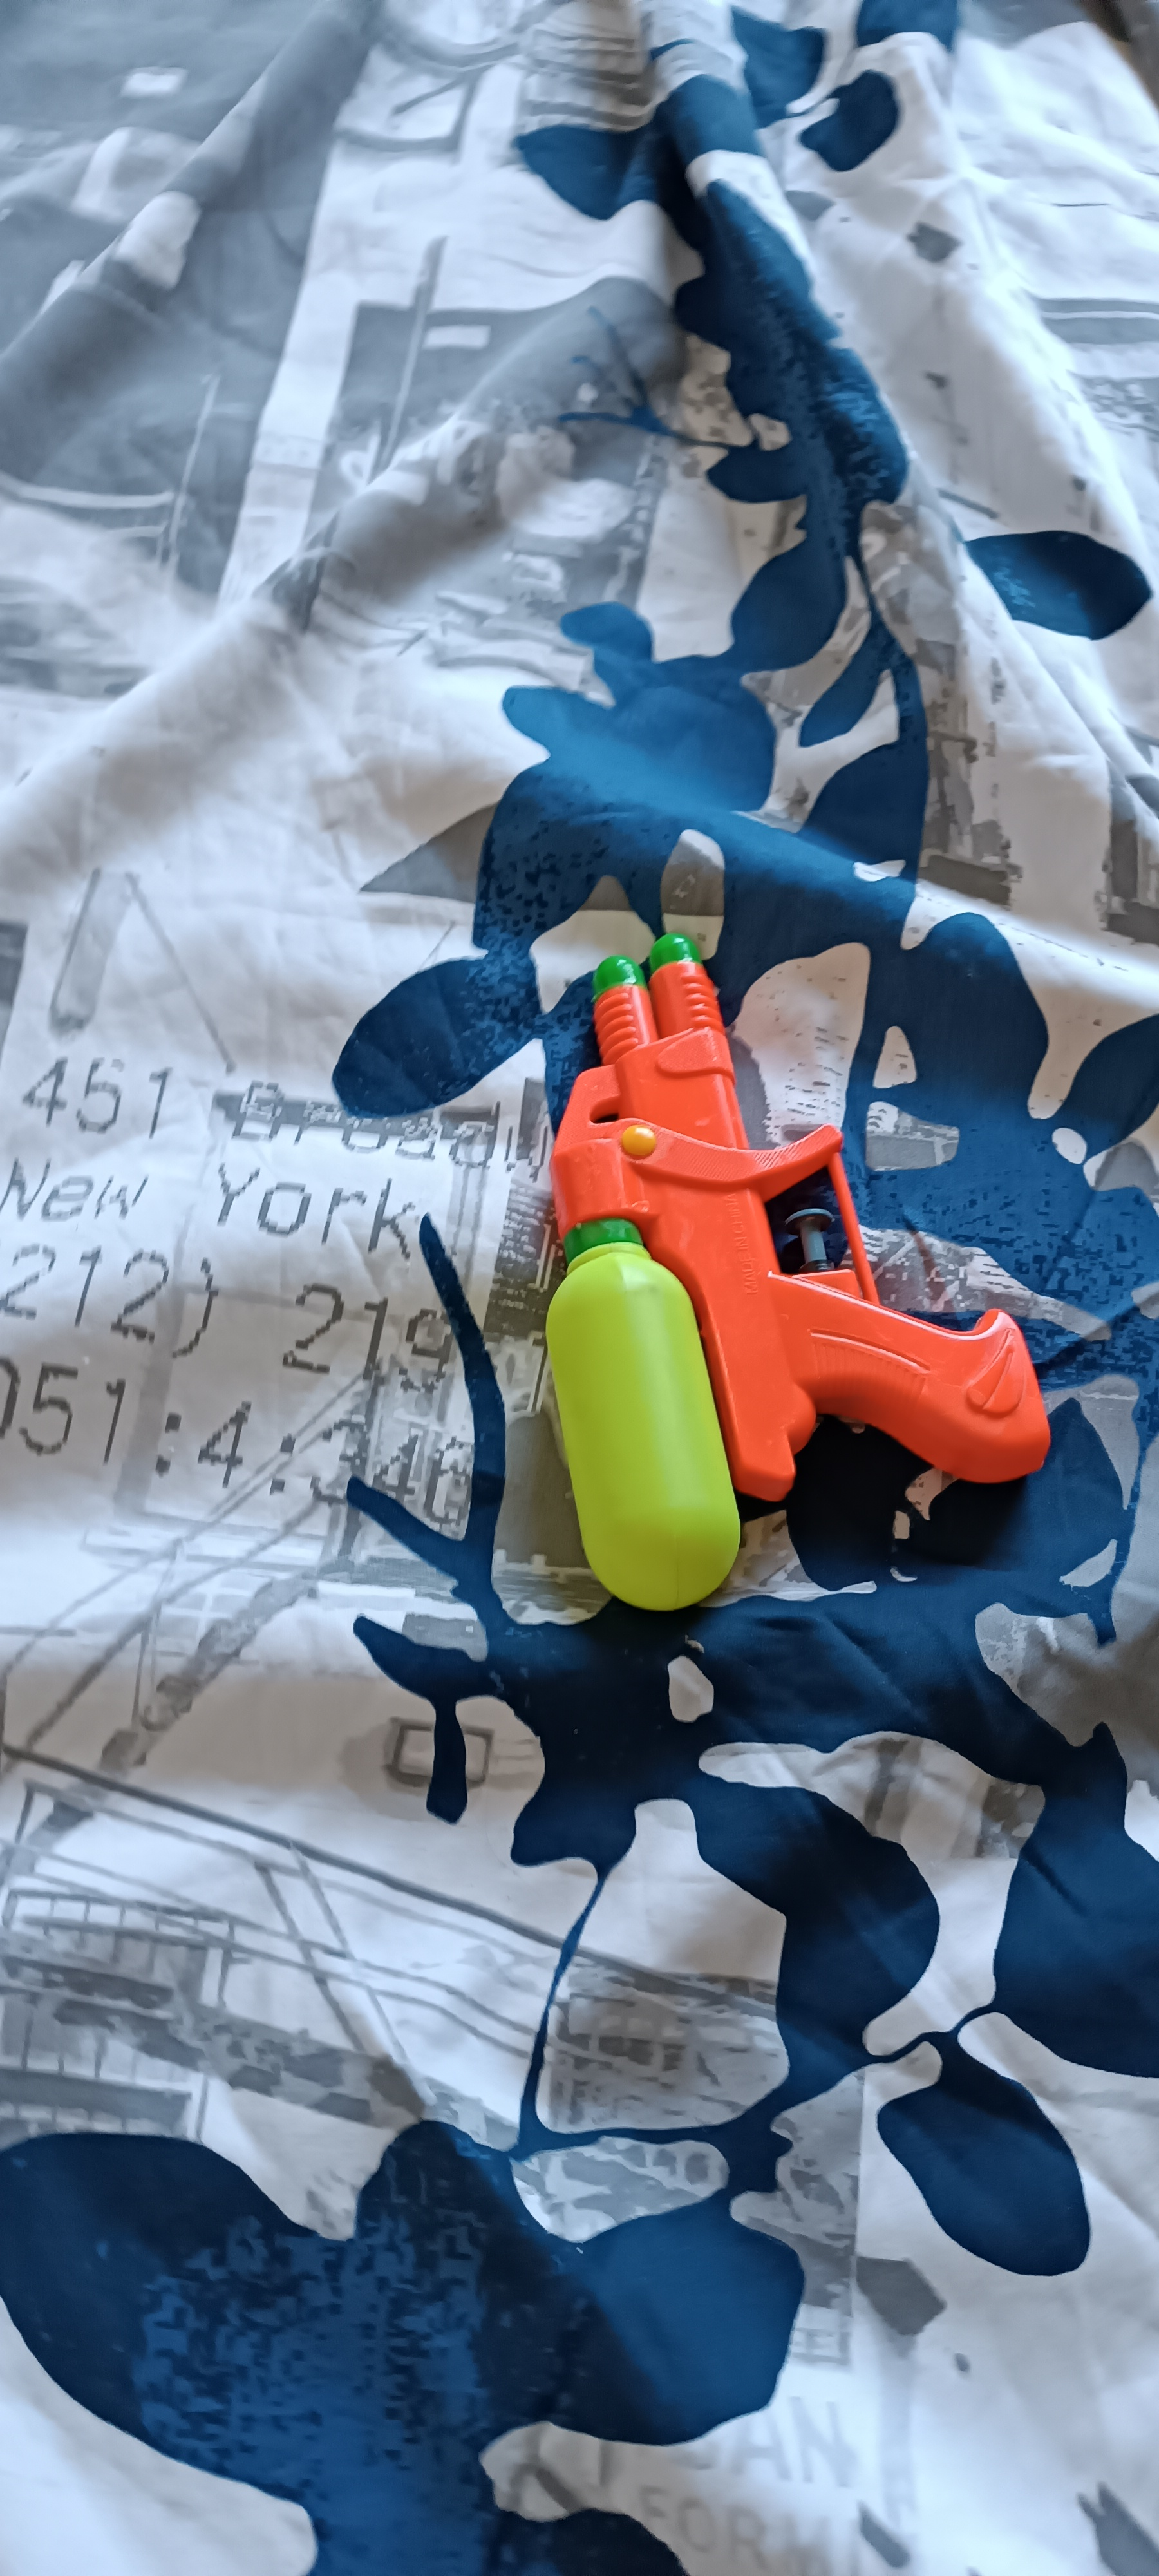Water Gun: (543, 933, 1054, 1617)
